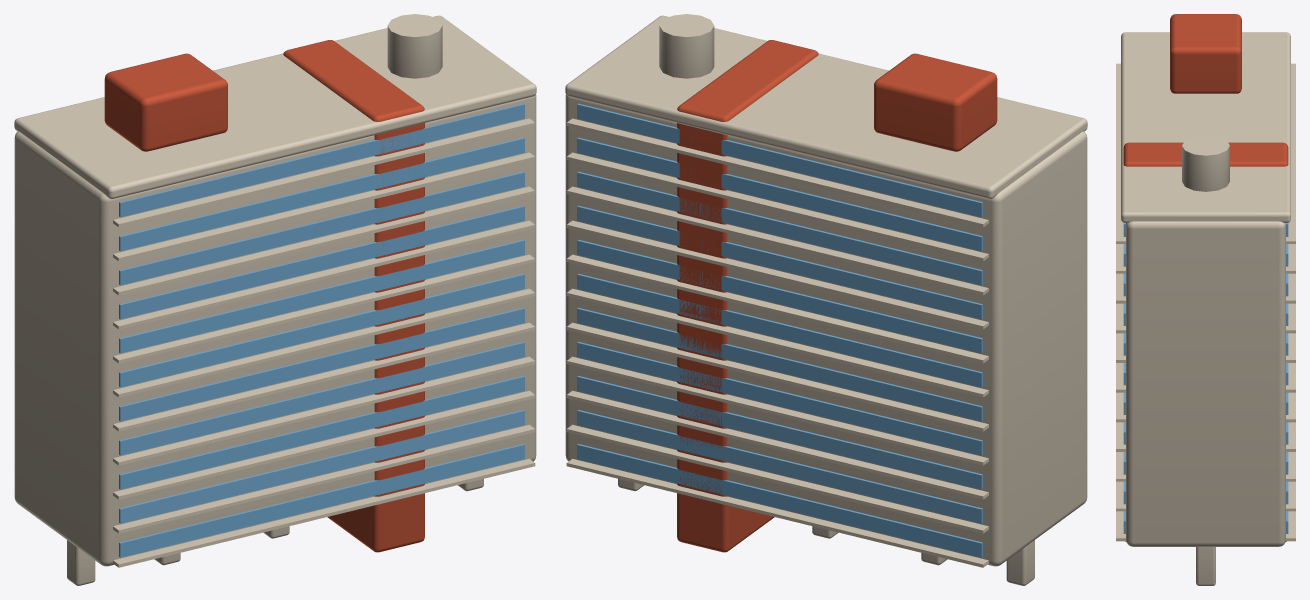
Rendered from hdb_a.glb.
3 views of the same model, side by side, from view 1: azimuth 30°, elevation 25°; view 2: azimuth 150°, elevation 25°; view 3: azimuth 270°, elevation 25° (orthographic). The views are drawn at different scales.
Parts seen in each view (by area): view 1: hdb_body, hdb_windows; view 2: hdb_body, hdb_windows; view 3: hdb_body, hdb_windows.
Boxes of the visible parts, bbox=[...] form: hdb_body: bbox=[14, 14, 536, 585]; hdb_windows: bbox=[119, 103, 524, 557]; hdb_body: bbox=[565, 14, 1087, 585]; hdb_windows: bbox=[577, 103, 982, 557]; hdb_body: bbox=[1116, 14, 1295, 585]; hdb_windows: bbox=[1123, 223, 1288, 533].
Size of the model in its own units: 11 by 11.68 by 4.5.
